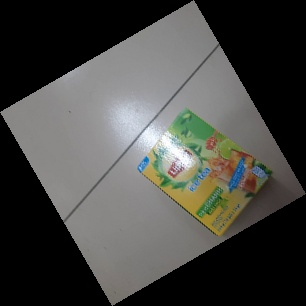LipTon: (138, 108, 274, 238)
